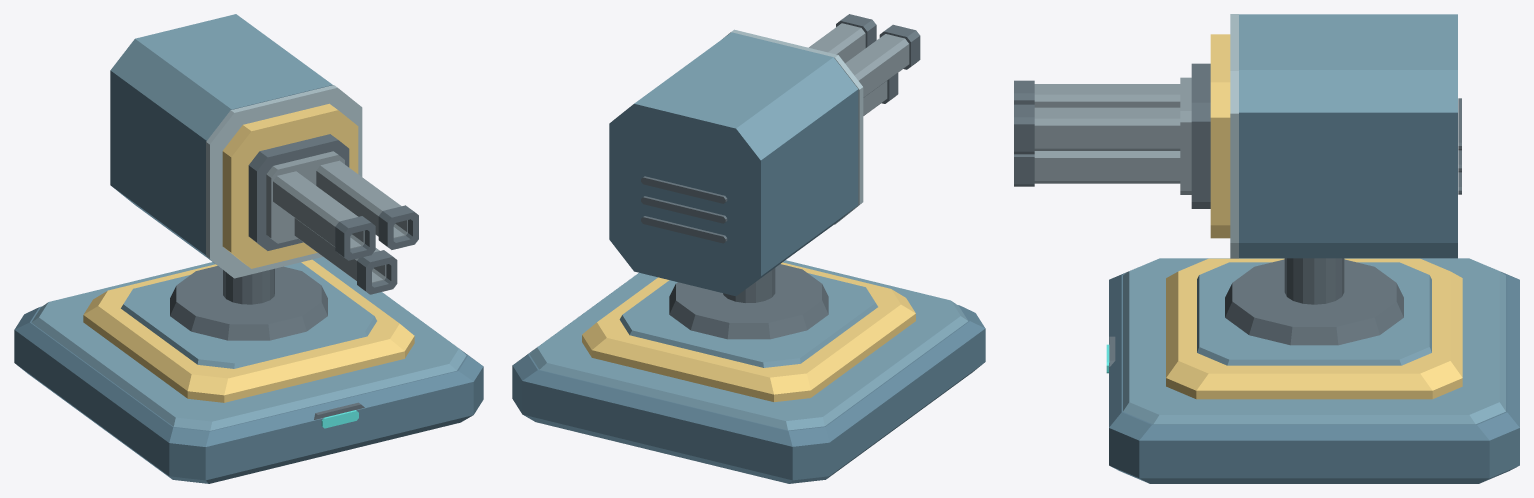
The picture shows the model from 3 angles, left to right: view 1: azimuth 30°, elevation 25°; view 2: azimuth 150°, elevation 25°; view 3: azimuth 270°, elevation 25°; orthographic projection. The views are drawn at different scales.
Parts seen in each view (by area): view 1: MachineGunTurret_Base, Turret, Barrel; view 2: MachineGunTurret_Base, Turret, Barrel; view 3: MachineGunTurret_Base, Turret, Barrel.
Part boxes in pixels (box(x1,y1,x2,y2)): MachineGunTurret_Base: box(14, 257, 483, 483); Turret: box(110, 14, 362, 278); Barrel: box(266, 151, 418, 294); MachineGunTurret_Base: box(512, 260, 985, 483); Turret: box(609, 29, 863, 296); Barrel: box(809, 14, 920, 115); MachineGunTurret_Base: box(1106, 258, 1519, 483); Turret: box(1191, 14, 1461, 258); Barrel: box(1014, 77, 1191, 194).
Bounding box in the file's own units: 2.17 × 2.1 × 2.68.
